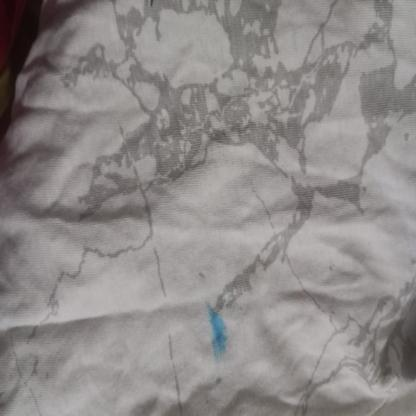spot: (195, 284, 236, 378)
